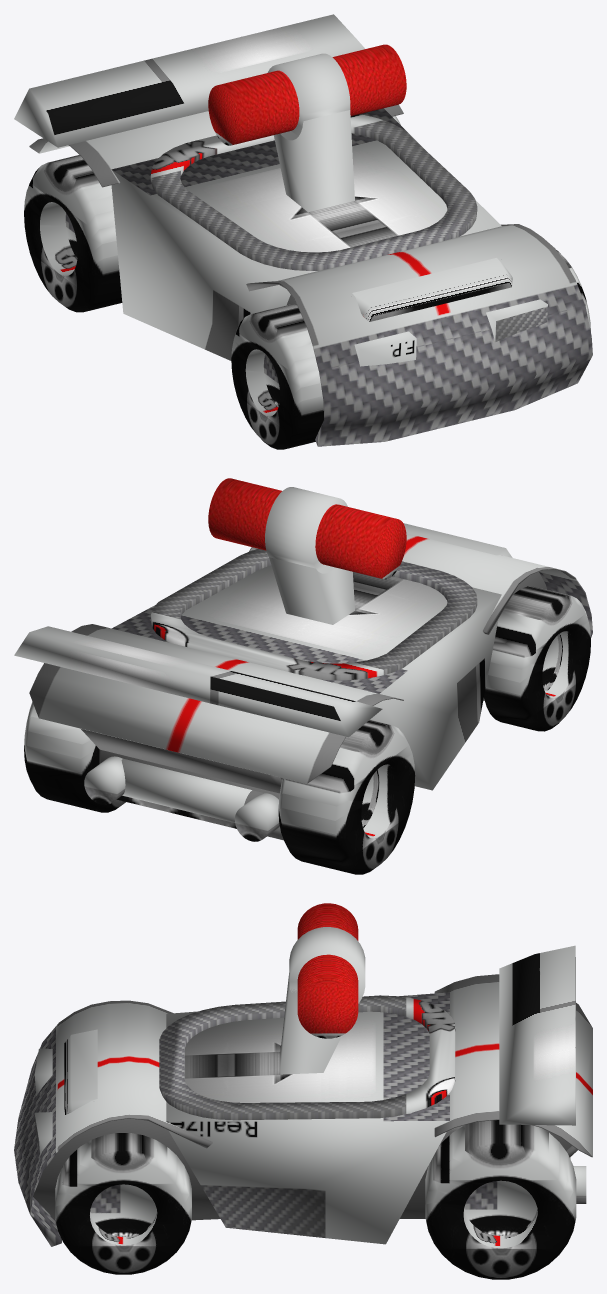
The model's file is kart.glb.
The picture shows the model from 3 angles, top to bottom: view 1: azimuth 30°, elevation 25°; view 2: azimuth 150°, elevation 25°; view 3: azimuth 270°, elevation 25°; orthographic projection.
Visible parts, largest first — view 1: body_0, body_3, wheel-rear-left, wheel-front-left, body_4, body_2, body_1; view 2: body_0, body_3, wheel-rear-left, wheel-front-left, wheel-rear-right, body_4; view 3: body_0, wheel-rear-right, wheel-front-right, body_3, body_4, body_1, body_2.
Part boxes in pixels (x1,y1,x2,y2): body_0: (14,14,592,446); body_3: (208,44,406,212); wheel-rear-left: (24,155,122,312); wheel-front-left: (231,304,323,449); body_4: (352,258,512,321); body_2: (486,299,547,341); body_1: (354,331,416,366); body_0: (14,533,592,841); body_3: (208,478,406,624); wheel-rear-left: (278,719,415,874); wheel-front-left: (484,586,590,731); wheel-rear-right: (24,702,125,812); body_4: (403,523,512,557); body_0: (14,945,592,1246); wheel-rear-right: (425,1120,576,1279); wheel-front-right: (55,1133,191,1274); body_3: (280,903,365,1074); body_4: (64,1029,97,1114); body_1: (34,1048,52,1095); body_2: (34,1112,52,1155).
Bounding box in the file's own units: 0.866 × 0.6719 × 1.32.
1 material, 1 textured.
